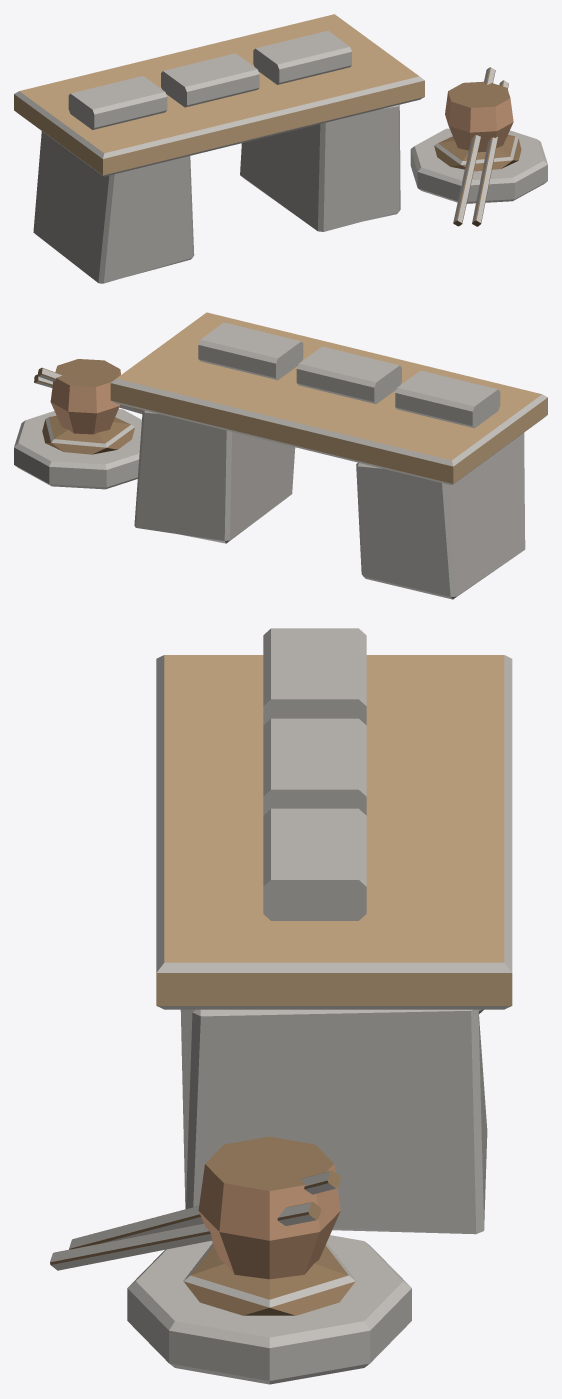
Rendered from asset_casting_bench_empty.glb.
The picture shows the model from 3 angles, top to bottom: view 1: azimuth 30°, elevation 25°; view 2: azimuth 150°, elevation 25°; view 3: azimuth 270°, elevation 25°; orthographic projection. The views are drawn at different scales.
Visible parts, largest first — view 1: asset_casting_bench_empty; view 2: asset_casting_bench_empty; view 3: asset_casting_bench_empty.
Part boxes in pixels (x1=…): asset_casting_bench_empty: x1=14, y1=14, x2=547, y2=283; asset_casting_bench_empty: x1=14, y1=312, x2=547, y2=599; asset_casting_bench_empty: x1=50, y1=628, x2=512, y2=1384.
Bounding box in the file's own units: 1.66 × 0.55 × 0.715.
